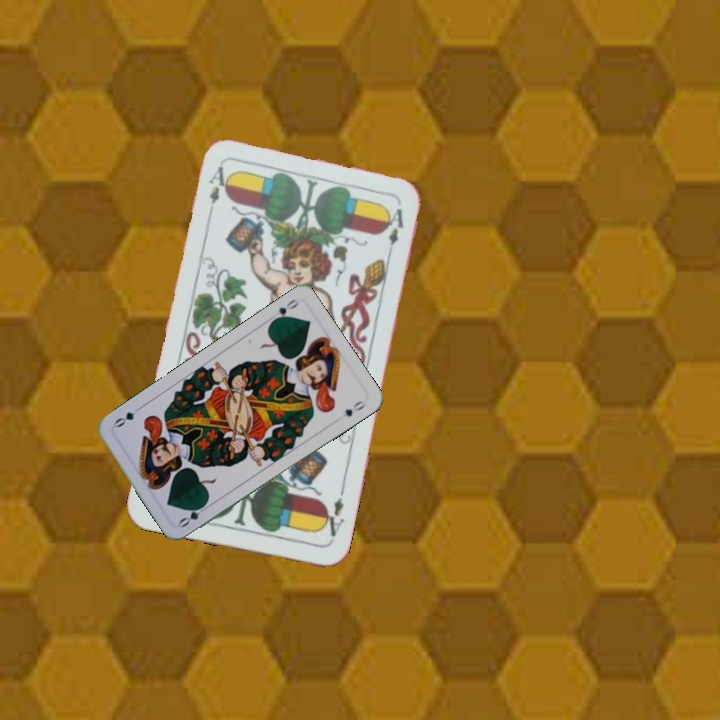EA: (203, 162, 233, 221), (318, 486, 348, 544)
GO: (175, 498, 212, 530), (267, 295, 301, 325)
